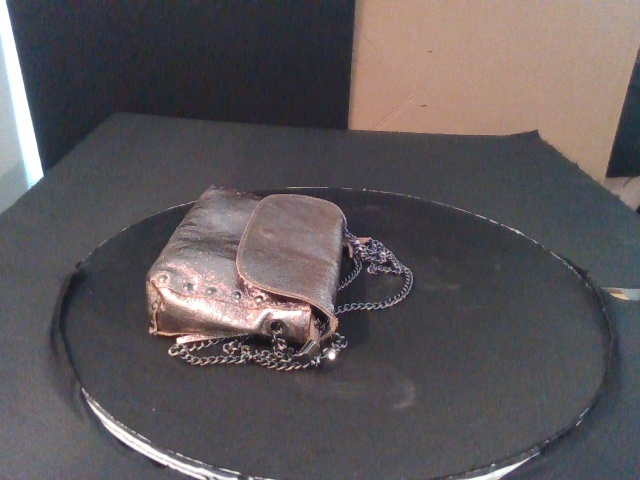bag: (148, 184, 349, 347)
